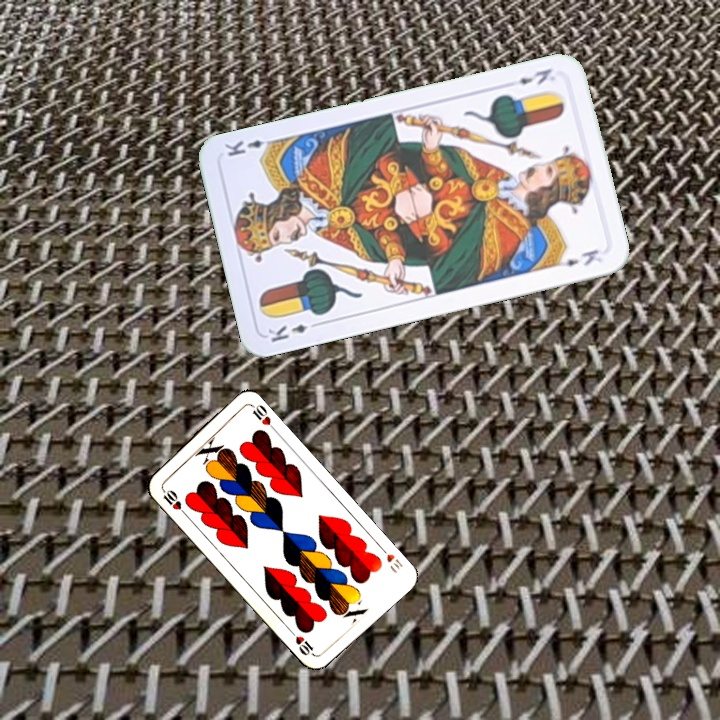EK: (263, 317, 323, 345), (514, 64, 555, 88)
H10: (157, 484, 188, 517), (375, 541, 406, 573)
